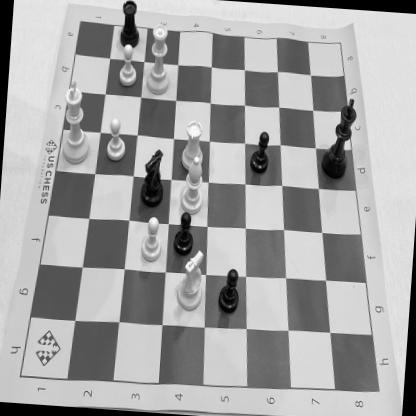bishop: (176, 154, 211, 218)
king: (318, 92, 362, 182), (57, 75, 98, 170)
knight: (173, 246, 209, 316), (137, 144, 169, 213)
pawn: (216, 262, 245, 316), (246, 126, 274, 177), (139, 214, 165, 268), (102, 115, 130, 164), (115, 40, 142, 90), (170, 208, 197, 257)
queen: (142, 19, 178, 98)
rook: (178, 117, 208, 176), (118, 0, 144, 53)
